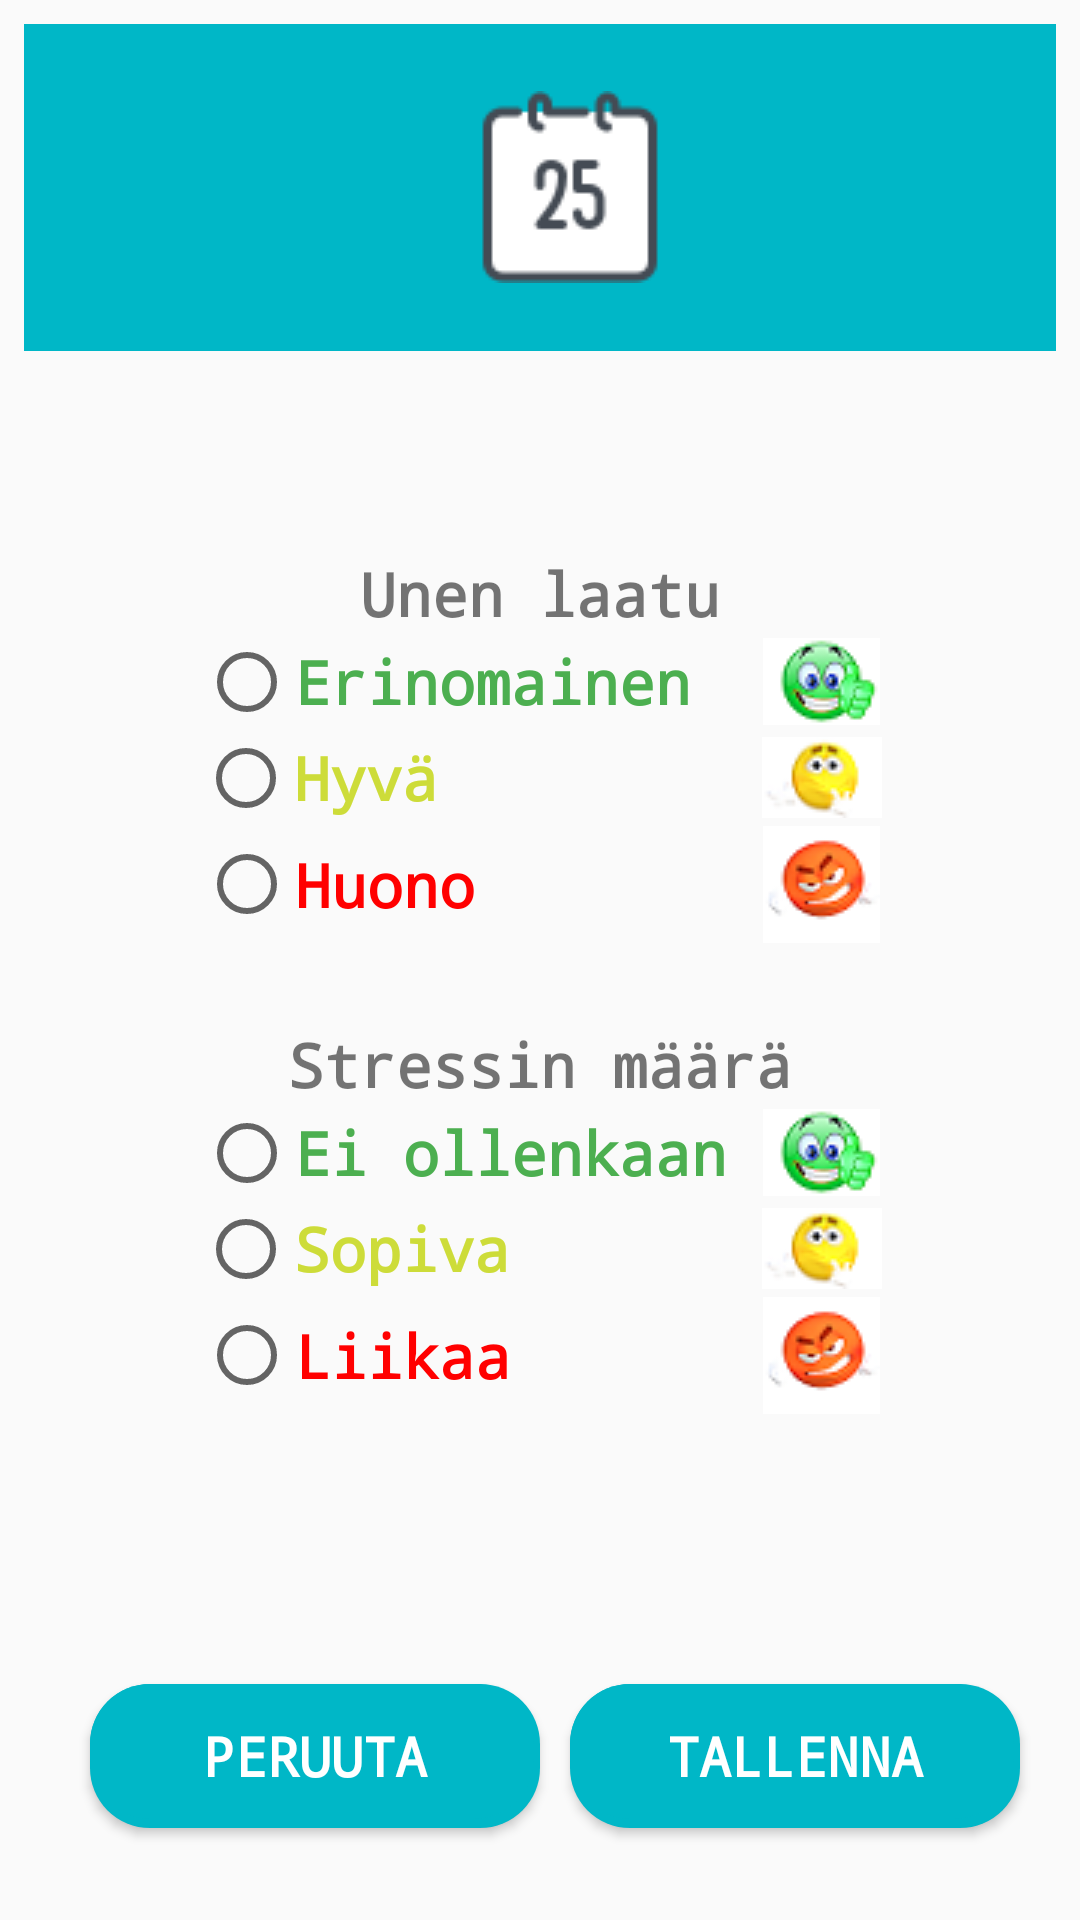

Where to tap for icons on this 1080×1920 app screen, as point (x, y):
calendericon: point (570, 187)
